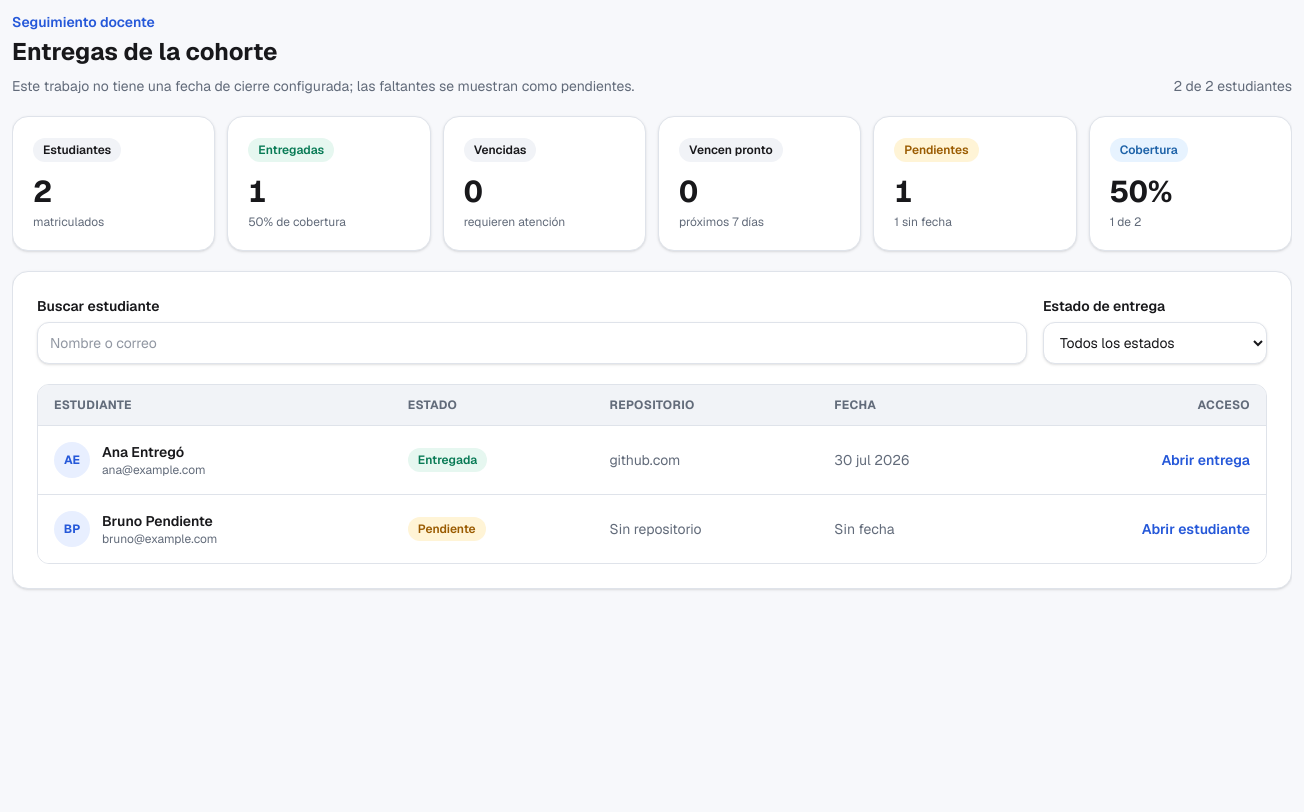
Scenario: teacher delivery overview › shows submitted and missing students and narrows them by status
Expected: the text "Ana Entregó" is shown, [102,443,184,461]
Expected: the text "Bruno Pendiente" is shown, [102,511,217,531]
Select "Pendiente" in the dropdown labelled "Estado de entrega": (1155, 343) [1043,322,1267,364]
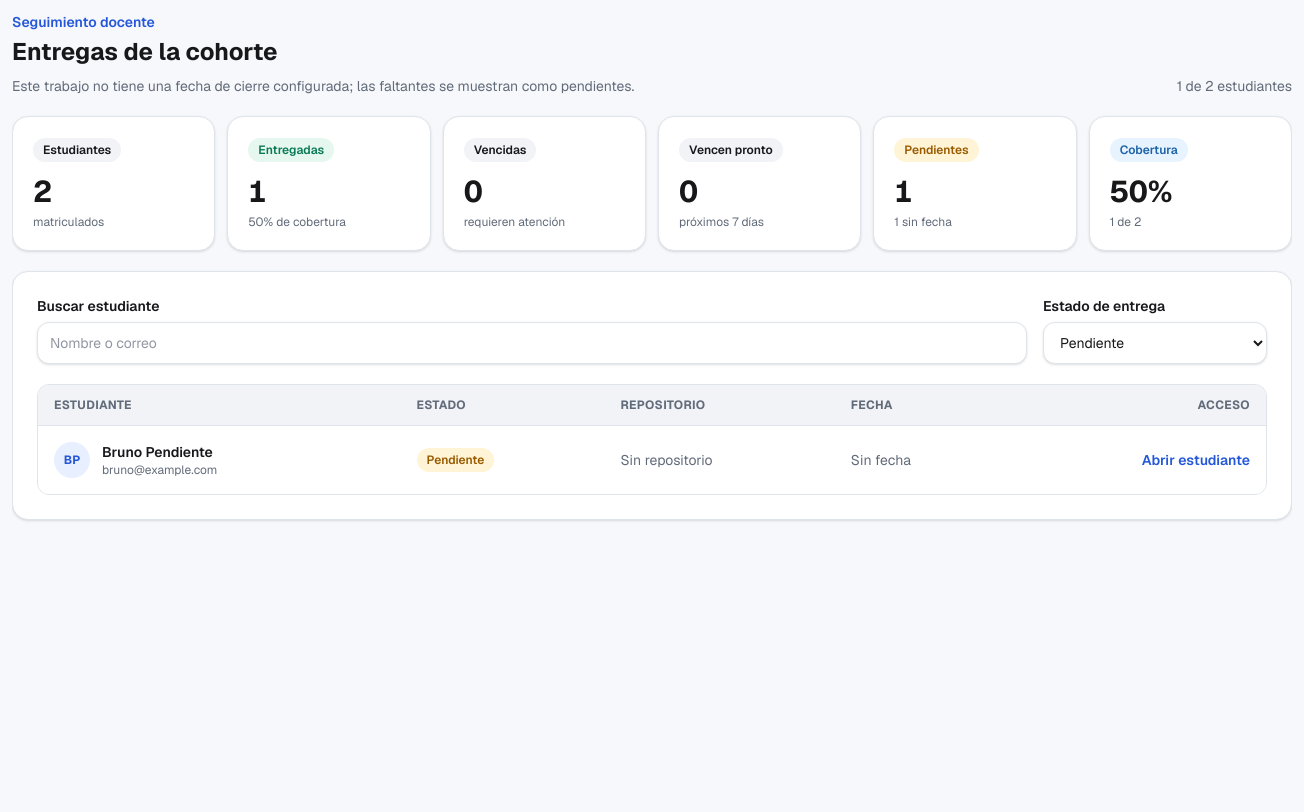
Expected: the text "Bruno Pendiente" is shown, [102,442,217,462]
Result: the text "Ana Entregó" is gone
Result: the message reads "1 de 2 estudiantes" at [1177,76,1292,96]
